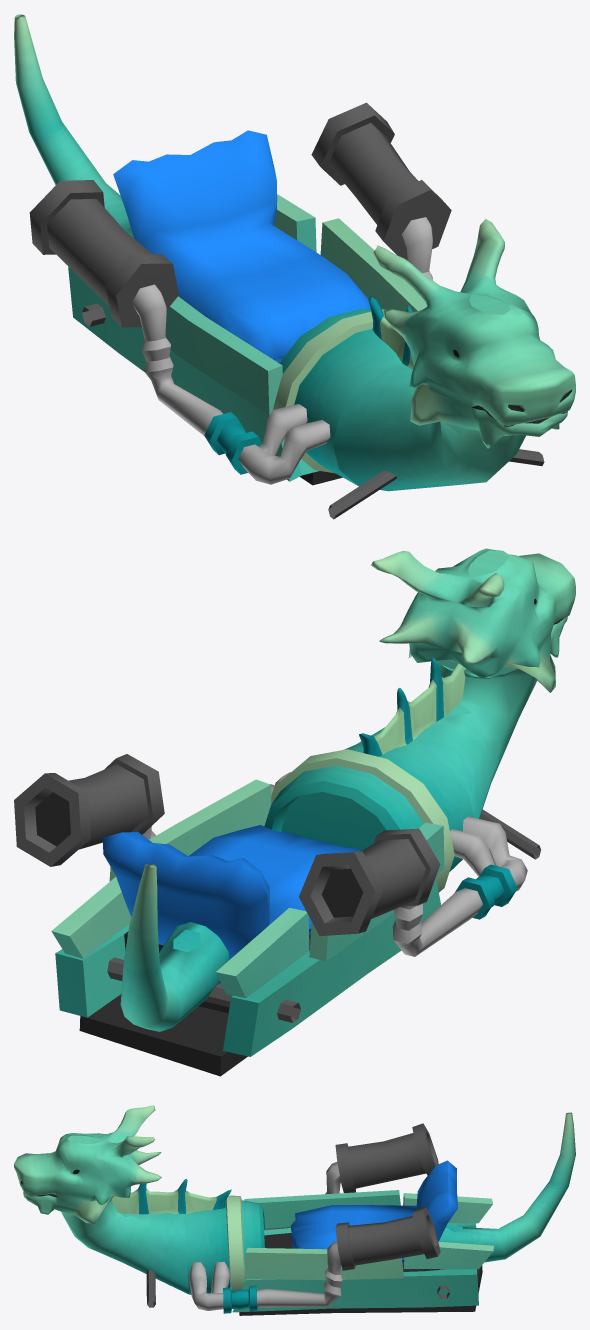
The model's file is Dragon Kart.fbx.
The picture shows the model from 3 angles, top to bottom: view 1: azimuth 30°, elevation 25°; view 2: azimuth 150°, elevation 25°; view 3: azimuth 270°, elevation 25°; orthographic projection. The views are drawn at different scales.
Parts seen in each view (by area): view 1: Dragon_Kart_Body; view 2: Dragon_Kart_Body; view 3: Dragon_Kart_Body.
Part boxes in pixels (x1,y1,x2,y2): Dragon_Kart_Body: [14, 14, 575, 519]; Dragon_Kart_Body: [14, 548, 575, 1076]; Dragon_Kart_Body: [14, 1105, 575, 1315].
Bounding box in the file's own units: 107 × 83.82 × 242.
